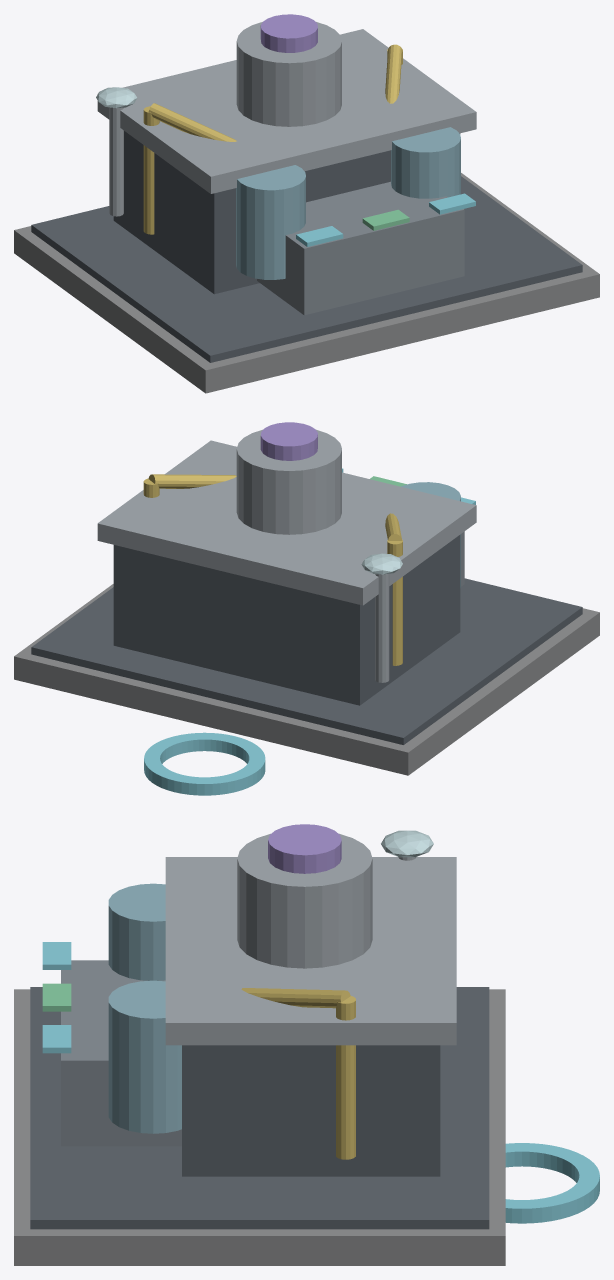
Rendered from human_laboratory.glb.
The picture shows the model from 3 angles, top to bottom: view 1: azimuth 30°, elevation 25°; view 2: azimuth 150°, elevation 25°; view 3: azimuth 270°, elevation 25°; orthographic projection. The views are drawn at different scales.
Parts seen in each view (by area): view 1: foundation_top, advanced_roof, foundation, test_bay, advanced_lab_shell, reactor_outer, test_chamber_-1, test_chamber_1, reactor_core, precision_antenna_mast, robot_mast_-1, robot_upper_arm_-1 (+5 smaller); view 2: advanced_lab_shell, advanced_roof, foundation_top, foundation, reactor_outer, reactor_ring, reactor_core, precision_antenna_mast, robot_mast_-1, robot_upper_arm_1, precision_antenna_dish, test_chamber_-1; view 3: foundation_top, advanced_roof, advanced_lab_shell, foundation, reactor_outer, test_bay, test_chamber_1, test_chamber_-1, reactor_ring, reactor_core, robot_mast_1, robot_upper_arm_1 (+4 smaller).
Boxes of the visible parts, x1,y1,x2,y2 form: foundation_top: (31, 176, 582, 362); advanced_roof: (97, 29, 476, 193); foundation: (14, 173, 599, 393); test_bay: (257, 181, 464, 315); advanced_lab_shell: (113, 131, 460, 294); reactor_outer: (236, 22, 341, 126); test_chamber_-1: (236, 165, 305, 279); test_chamber_1: (391, 127, 460, 198); reactor_core: (260, 14, 317, 52); precision_antenna_mast: (109, 107, 123, 216); robot_mast_-1: (143, 106, 159, 234); robot_upper_arm_-1: (148, 103, 236, 141); advanced_lab_shell: (113, 535, 460, 705); advanced_roof: (97, 440, 476, 605); foundation_top: (31, 578, 582, 744); foundation: (14, 584, 599, 775); reactor_outer: (236, 429, 341, 534); reactor_ring: (144, 732, 265, 795); reactor_core: (260, 422, 317, 460); precision_antenna_mast: (375, 574, 389, 682); robot_mast_-1: (387, 539, 402, 665); robot_upper_arm_1: (148, 474, 236, 488); precision_antenna_dish: (361, 553, 402, 574); test_chamber_-1: (401, 482, 460, 588); foundation_top: (30, 987, 489, 1229); advanced_roof: (165, 857, 456, 1045); advanced_lab_shell: (182, 1045, 440, 1176); foundation: (14, 989, 505, 1265); reactor_outer: (237, 833, 372, 968); test_bay: (61, 960, 181, 1146); test_chamber_1: (108, 980, 181, 1133); test_chamber_-1: (108, 883, 165, 980); reactor_ring: (505, 1143, 599, 1223); reactor_core: (268, 824, 341, 873); robot_mast_1: (336, 996, 355, 1159); robot_upper_arm_1: (241, 988, 350, 1008).
Bounding box in the file's own units: 2.85 × 1.89 × 2.86.
